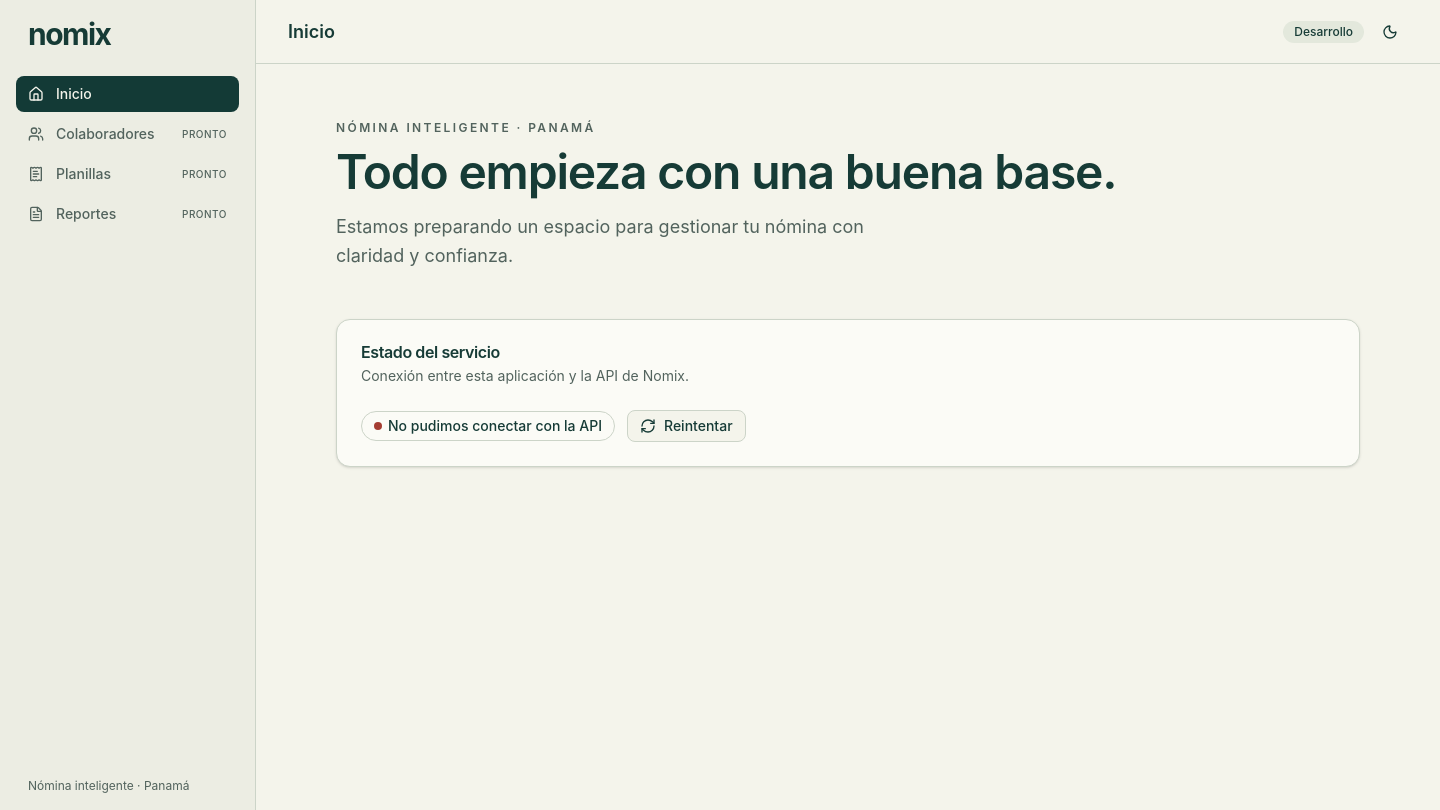
HealthStatus › muestra el error y permite reintentar
The width and height of the screenshot is (1440, 810).
Expected: the text "No pudimos conectar con la API" is shown, x1=361 y1=410 x2=615 y2=440
What coordinates should you click on to do the following:
click the button "Reintentar"
I would click on:
 (686, 426)
Its box is x1=627 y1=410 x2=746 y2=442.
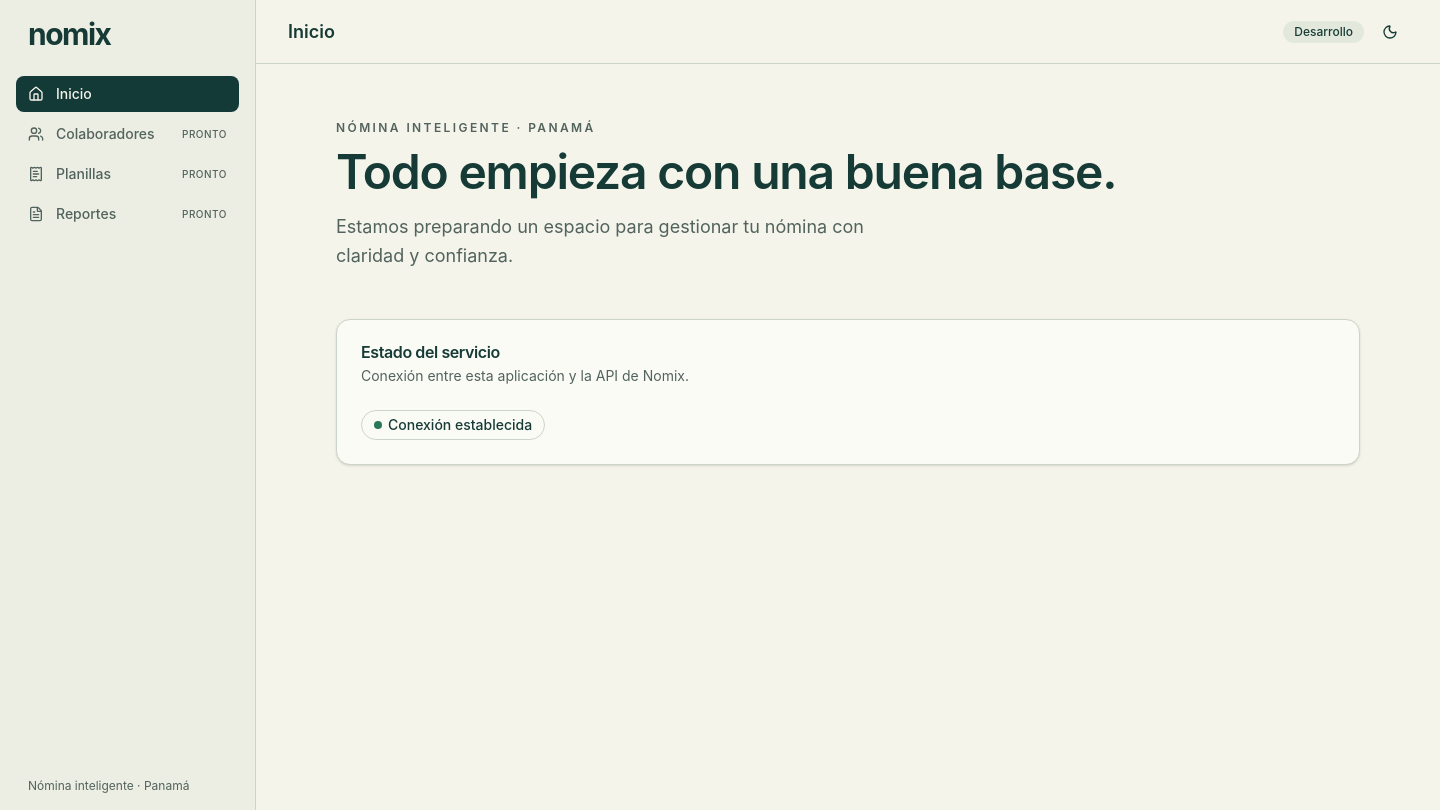
Expected: the text "Conexión establecida" is shown, x1=361 y1=410 x2=545 y2=440
